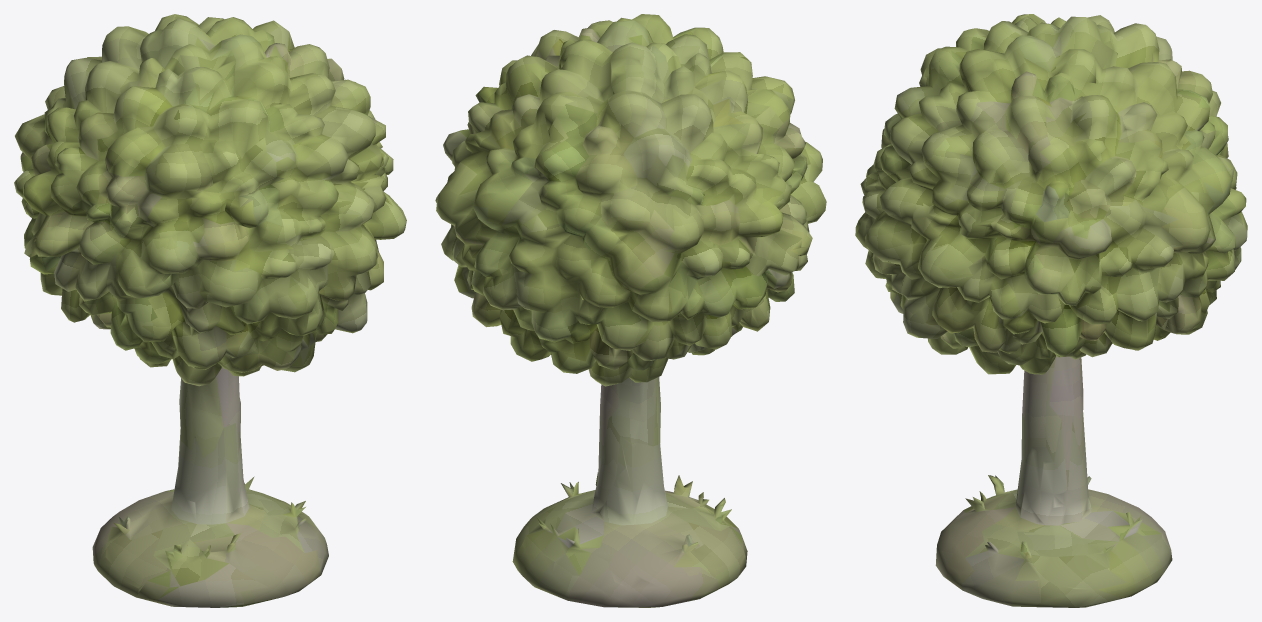
Rendered from KR_사물_s1_sm_tree.glb.
3 renders of one model, left to right at view 1: azimuth 30°, elevation 25°; view 2: azimuth 150°, elevation 25°; view 3: azimuth 270°, elevation 25°, orthographic.
Visible parts, largest first — view 1: tripo_node_6c041fd5-dfcd-4b78-83d4-470888819011; view 2: tripo_node_6c041fd5-dfcd-4b78-83d4-470888819011; view 3: tripo_node_6c041fd5-dfcd-4b78-83d4-470888819011.
Boxes of the visible parts, x1,y1,x2,y2 form: tripo_node_6c041fd5-dfcd-4b78-83d4-470888819011: (14,14,406,607); tripo_node_6c041fd5-dfcd-4b78-83d4-470888819011: (435,14,826,607); tripo_node_6c041fd5-dfcd-4b78-83d4-470888819011: (855,14,1247,607).
Bounding box in the file's own units: 0.6938 × 1 × 0.6625.
Materials: 1 (1 with a texture image).
